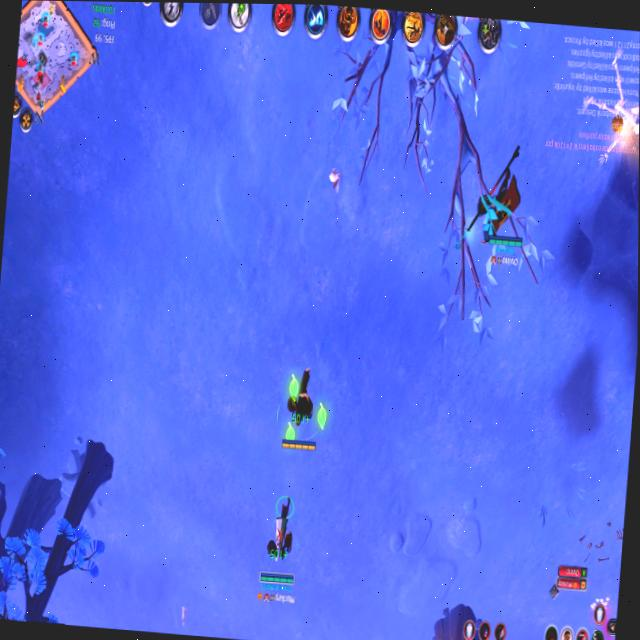red: (466, 131, 538, 276), (247, 483, 310, 615), (268, 351, 333, 462)
stone: (586, 592, 613, 619)
tree: (423, 594, 490, 640)
